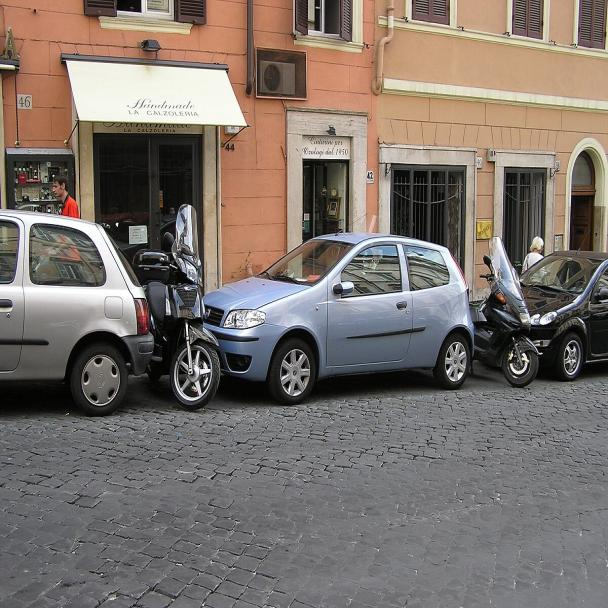Mobil: (209, 229, 472, 394), (3, 207, 152, 416), (522, 253, 608, 372)
